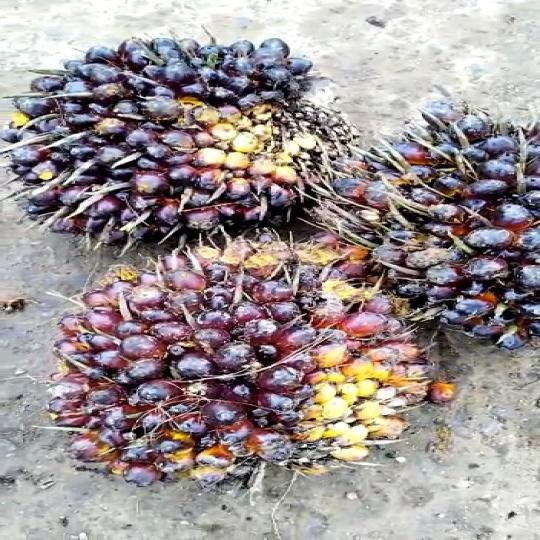mentah: (56, 218, 434, 508), (10, 34, 354, 254), (330, 88, 540, 357)
